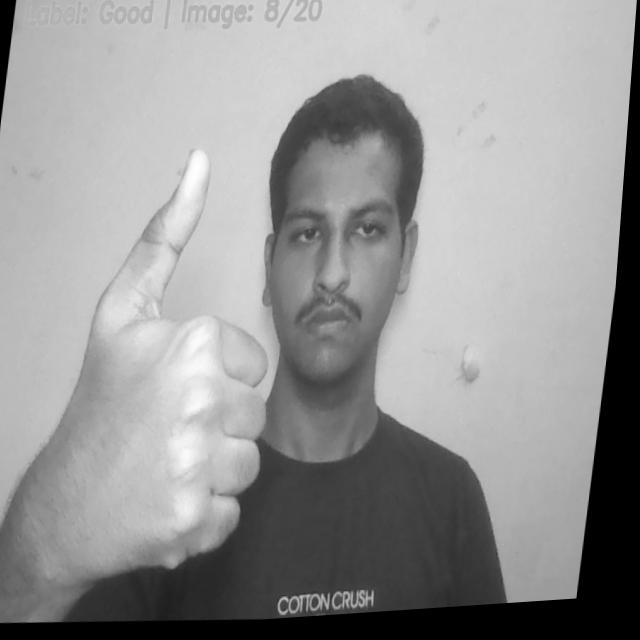Good: (56, 138, 303, 587)
